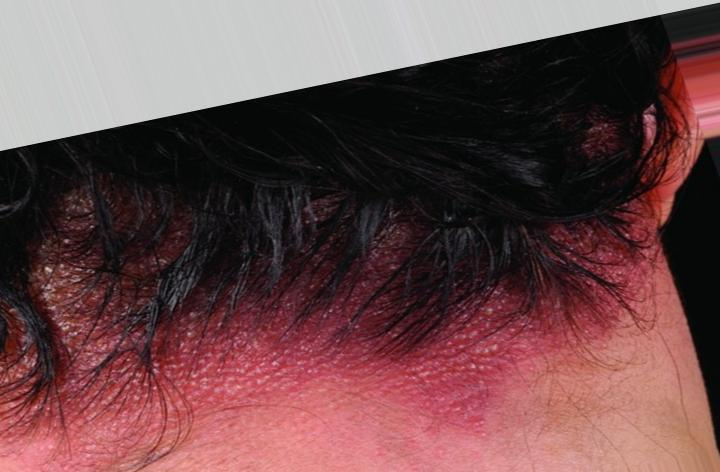Contact Dermatitis: (29, 206, 656, 403)
